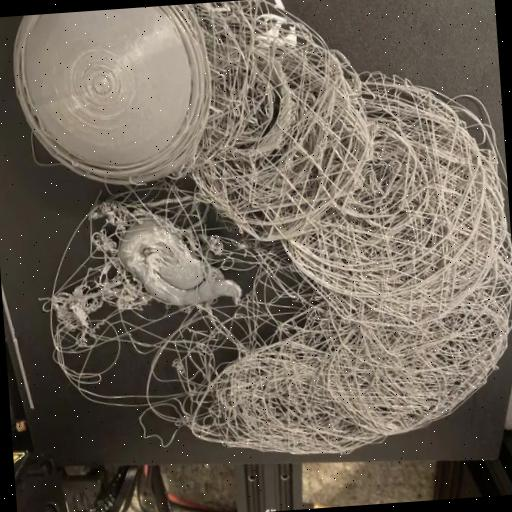spaghetti: (337, 129, 501, 278), (205, 332, 372, 458), (223, 98, 378, 224), (368, 292, 482, 414), (188, 26, 278, 158), (46, 262, 144, 350), (194, 296, 296, 357), (230, 227, 309, 299), (144, 350, 208, 438), (148, 188, 216, 243)
